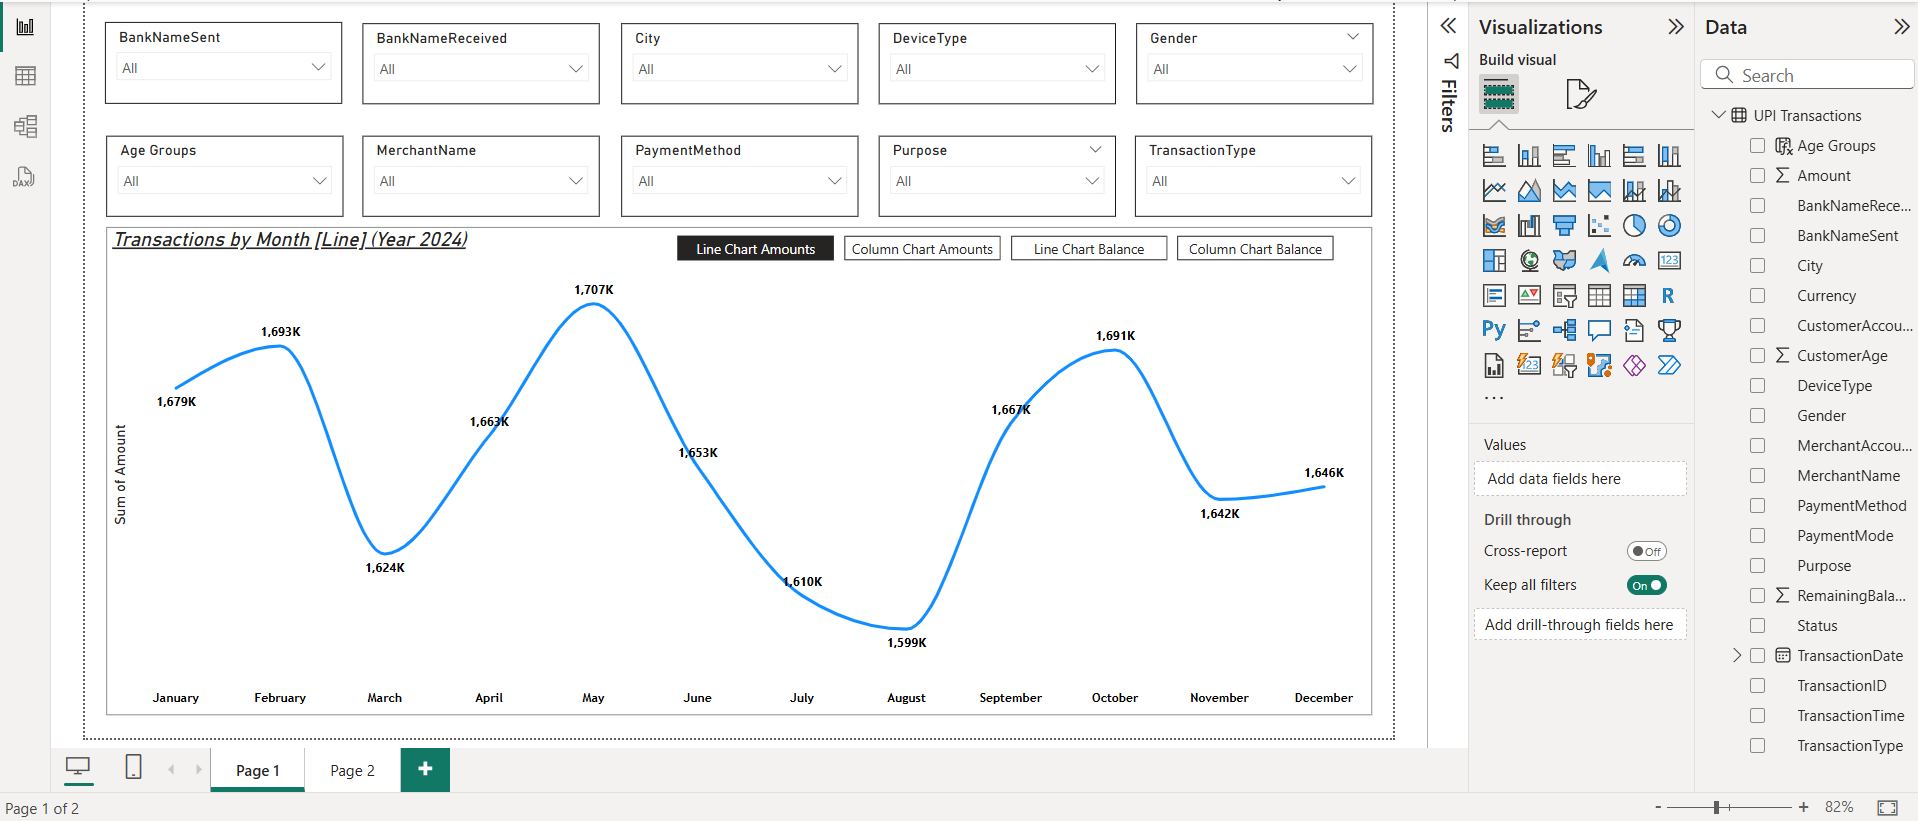

The dashboard page shown, as its layout file describes it:
{"tool":"powerbi","page":{"name":"Page 1","canvas":[1280,720],"ordinal":0},"visuals":[{"type":"slicer","fields":{"Values":["UPI Transactions.BankNameSent"]},"box":[20,20,232,80],"z":0},{"type":"slicer","fields":{"Values":["UPI Transactions.BankNameReceived"]},"box":[272,20.6,232,79.6],"z":1000},{"type":"slicer","fields":{"Values":["UPI Transactions.City"]},"box":[524,20.6,232,79.6],"z":2000},{"type":"slicer","fields":{"Values":["UPI Transactions.DeviceType"]},"box":[776,20.6,232,79.6],"z":3000},{"type":"slicer","fields":{"Values":["UPI Transactions.Gender"]},"box":[1028,20.6,232,79.6],"z":4000},{"type":"slicer","fields":{"Values":["UPI Transactions.Age Groups"]},"box":[20.6,130.4,231.9,79.6],"z":5000},{"type":"slicer","fields":{"Values":["UPI Transactions.MerchantName"]},"box":[271.7,130.4,231.9,79.6],"z":6000},{"type":"slicer","fields":{"Values":["UPI Transactions.PaymentMethod"]},"box":[524.2,130.4,231.9,79.6],"z":7000},{"type":"slicer","fields":{"Values":["UPI Transactions.Purpose"]},"box":[776.7,130.4,231.9,79.6],"z":8000},{"type":"slicer","fields":{"Values":["UPI Transactions.TransactionType"]},"box":[1027.8,130.4,231.9,79.6],"z":9000},{"type":"lineChart","title":"Transactions by Month [Line] (Year 2024)","fields":{"Y":["Sum(UPI Transactions.Amount)"],"Category":["UPI Transactions.TransactionDate.Variation.Date Hierarchy.Month"]},"box":[20.6,219.7,1238.4,477.9],"z":10000},{"type":"bookmarkNavigator","box":[579.4,228.7,644.9,24.4],"z":14000}]}

Visuals, with their boxes on the page's 1280x720 design canvas (x1, y1, x2, y2). These are canvas units, not pixel positions in the 1918x821 screenshot, which may show the page scaled, cropped or inside an application window:
slicer - UPI Transactions.BankNameSent: (left=20, top=20, right=252, bottom=100)
slicer - UPI Transactions.BankNameReceived: (left=272, top=21, right=504, bottom=100)
slicer - UPI Transactions.City: (left=524, top=21, right=756, bottom=100)
slicer - UPI Transactions.DeviceType: (left=776, top=21, right=1008, bottom=100)
slicer - UPI Transactions.Gender: (left=1028, top=21, right=1260, bottom=100)
slicer - UPI Transactions.Age Groups: (left=21, top=130, right=252, bottom=210)
slicer - UPI Transactions.MerchantName: (left=272, top=130, right=504, bottom=210)
slicer - UPI Transactions.PaymentMethod: (left=524, top=130, right=756, bottom=210)
slicer - UPI Transactions.Purpose: (left=777, top=130, right=1009, bottom=210)
slicer - UPI Transactions.TransactionType: (left=1028, top=130, right=1260, bottom=210)
"Transactions by Month [Line] (Year 2024)" lineChart: (left=21, top=220, right=1259, bottom=698)
bookmarkNavigator: (left=579, top=229, right=1224, bottom=253)
